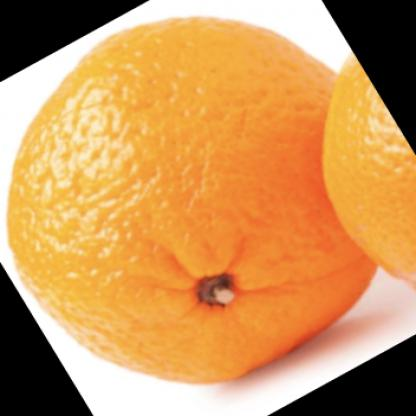orange: (8, 22, 358, 387)
